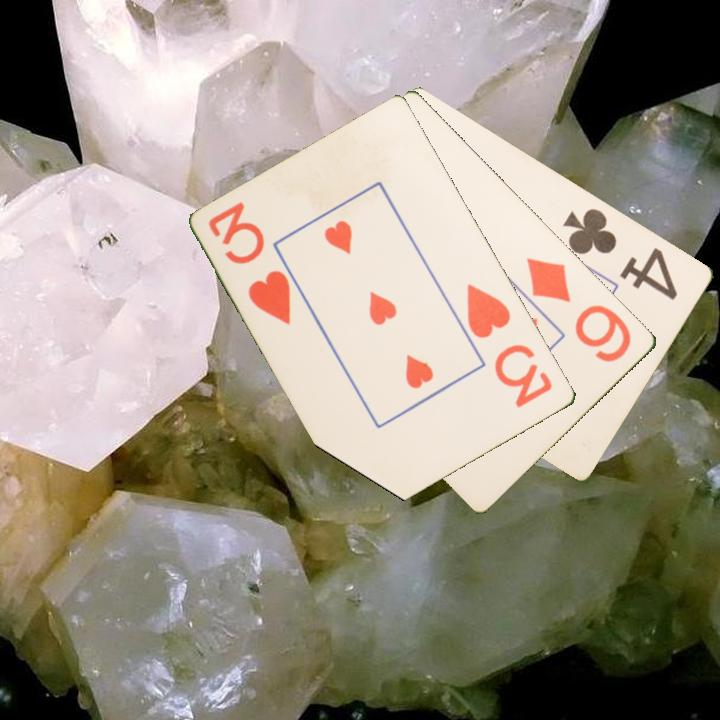3h: (463, 280, 556, 411), (205, 198, 295, 328)
4c: (560, 204, 681, 303)
6d: (523, 253, 635, 366)
